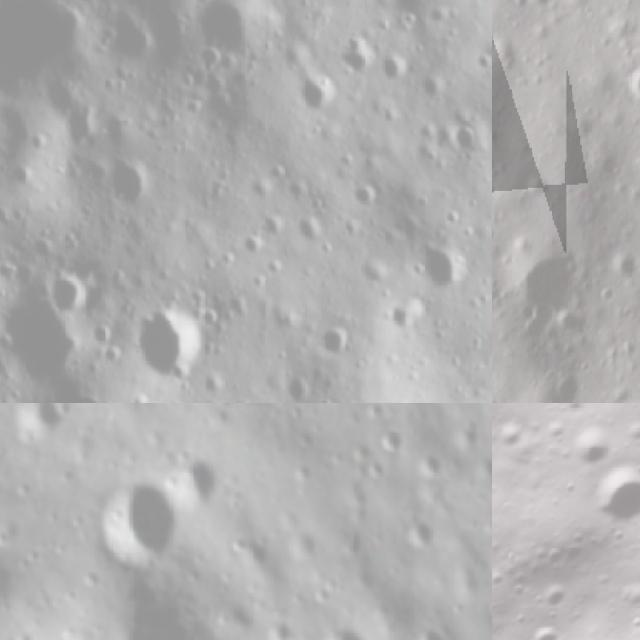crater: (90, 468, 183, 571), (0, 0, 94, 89), (574, 442, 640, 556), (509, 232, 585, 313), (551, 407, 629, 485), (187, 0, 265, 70), (140, 308, 205, 374), (107, 156, 161, 208), (165, 461, 224, 507), (43, 274, 97, 320), (419, 248, 471, 291), (294, 74, 346, 115), (9, 403, 66, 439), (348, 172, 386, 215), (445, 118, 483, 158), (400, 513, 438, 552), (243, 532, 275, 574), (315, 321, 348, 358), (320, 621, 375, 640), (620, 61, 640, 109), (408, 618, 451, 640), (382, 420, 408, 456), (260, 212, 288, 241), (263, 618, 294, 640), (240, 236, 266, 262), (518, 0, 552, 16)
